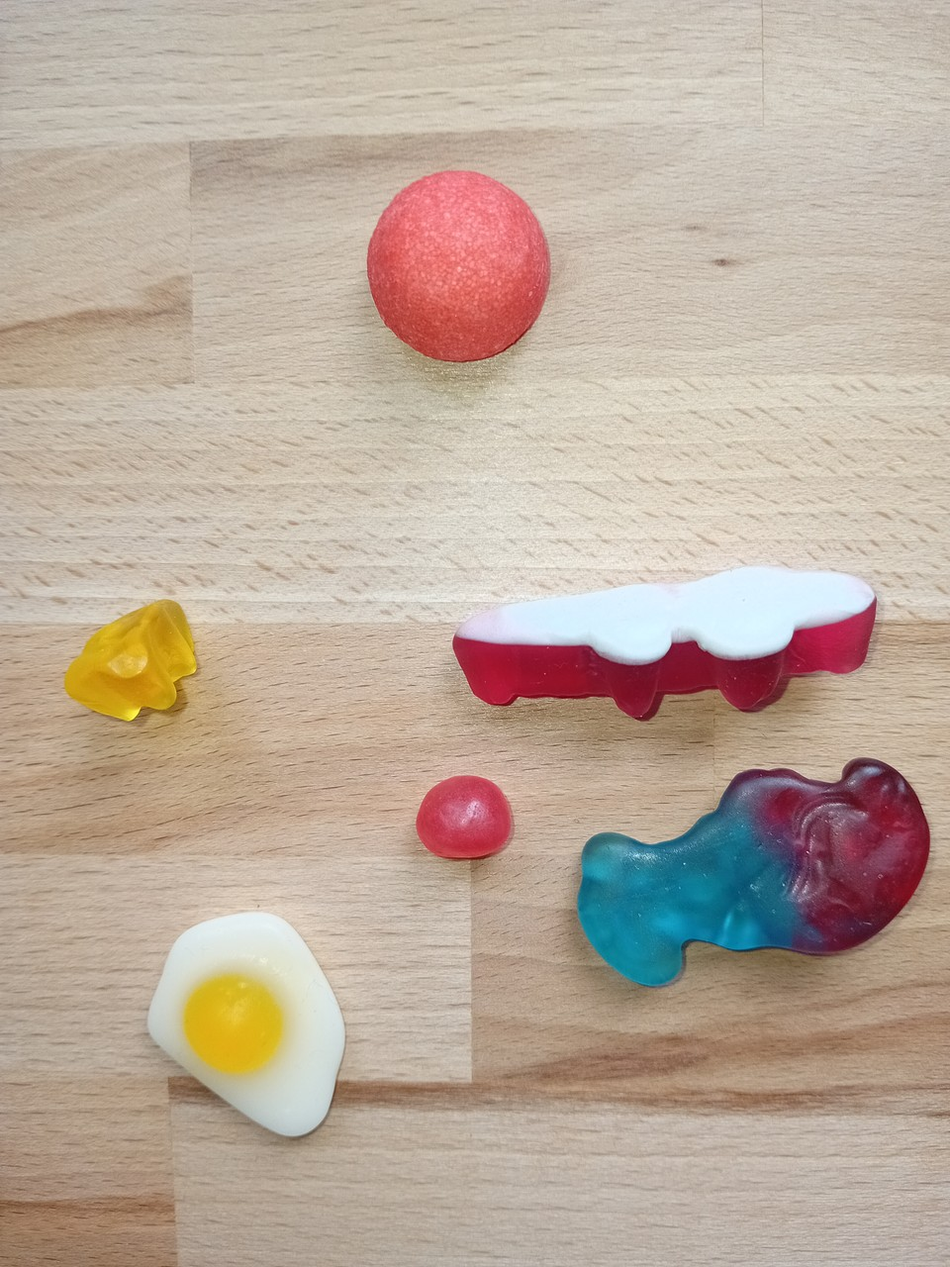crocodile_rouge: (444, 560, 883, 722)
dragibus_rouge: (412, 768, 516, 866)
oeuf_oeuf: (140, 907, 354, 1157)
ourson_jaune: (67, 592, 198, 732)
schtroumpf_bleu-rouge: (565, 754, 930, 992)
tagada_fraise: (362, 166, 565, 367)
